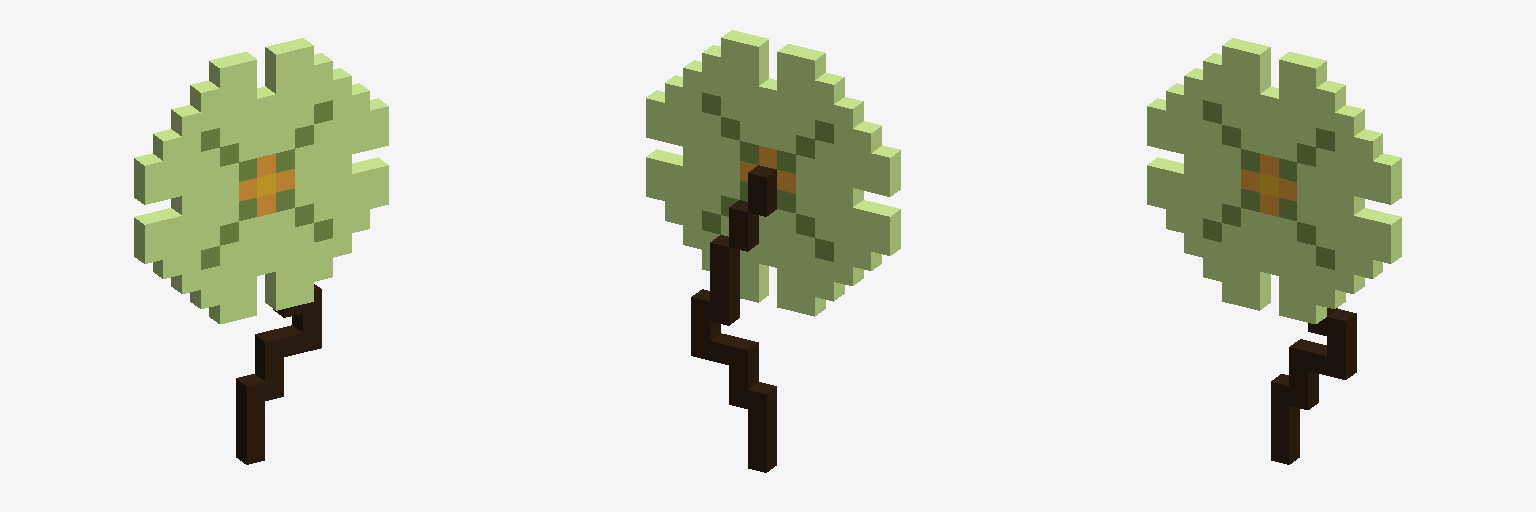
The picture shows the model from 3 angles: view 1: azimuth 30°, elevation 25°; view 2: azimuth 150°, elevation 25°; view 3: azimuth 330°, elevation 25°; orthographic projection.
Parts seen in each view (by area): view 1: GreenFlowerNoLeaf; view 2: GreenFlowerNoLeaf; view 3: GreenFlowerNoLeaf.
Boxes of the visible parts, x1,y1,x2,y2 form: GreenFlowerNoLeaf: [134, 38, 388, 464]; GreenFlowerNoLeaf: [646, 30, 900, 472]; GreenFlowerNoLeaf: [1147, 38, 1401, 464].
Bounding box in the file's own units: 13 × 21 × 2.
Materials: 1 (1 with a texture image).